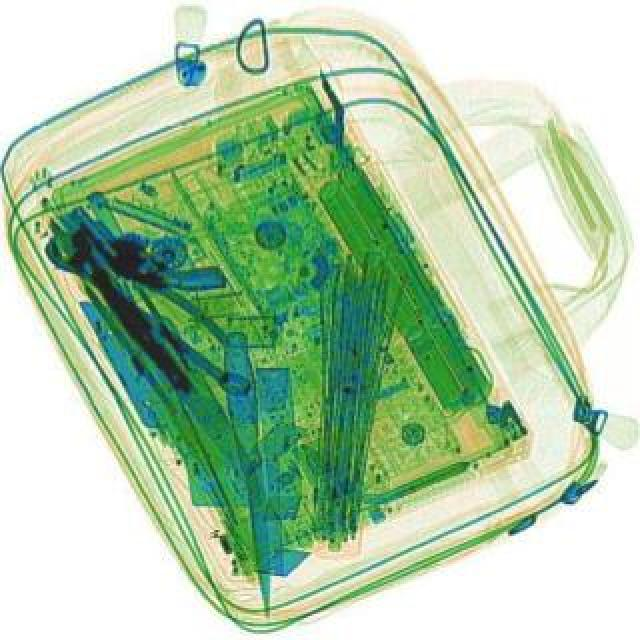gun: (68, 166, 230, 328)
knife: (82, 258, 294, 518), (220, 330, 280, 618)
scissors: (36, 218, 264, 406)
